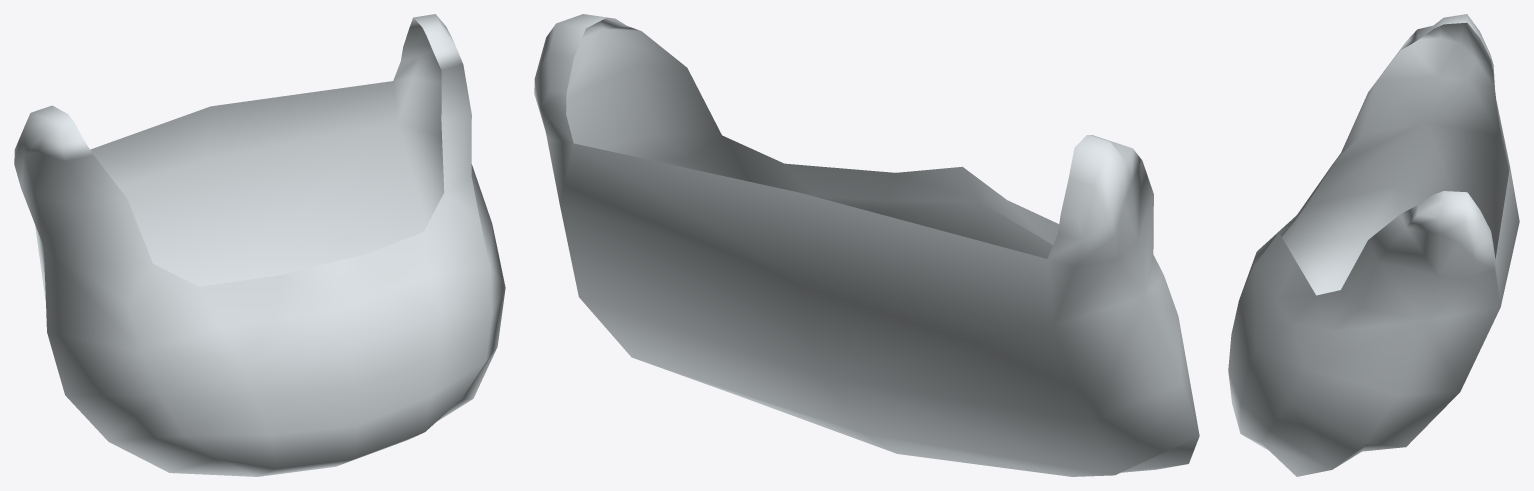
Rendered from Mustache_16.fbx.
3 views of the same model, side by side, from view 1: azimuth 30°, elevation 25°; view 2: azimuth 150°, elevation 25°; view 3: azimuth 270°, elevation 25° (orthographic). The views are drawn at different scales.
Visible parts, largest first — view 1: Mustache_16; view 2: Mustache_16; view 3: Mustache_16.
Boxes of the visible parts, x1,y1,x2,y2 form: Mustache_16: [14, 14, 505, 476]; Mustache_16: [534, 14, 1199, 476]; Mustache_16: [1228, 14, 1519, 476].
Bounding box in the file's own units: 54.49 × 38.57 × 32.08.
